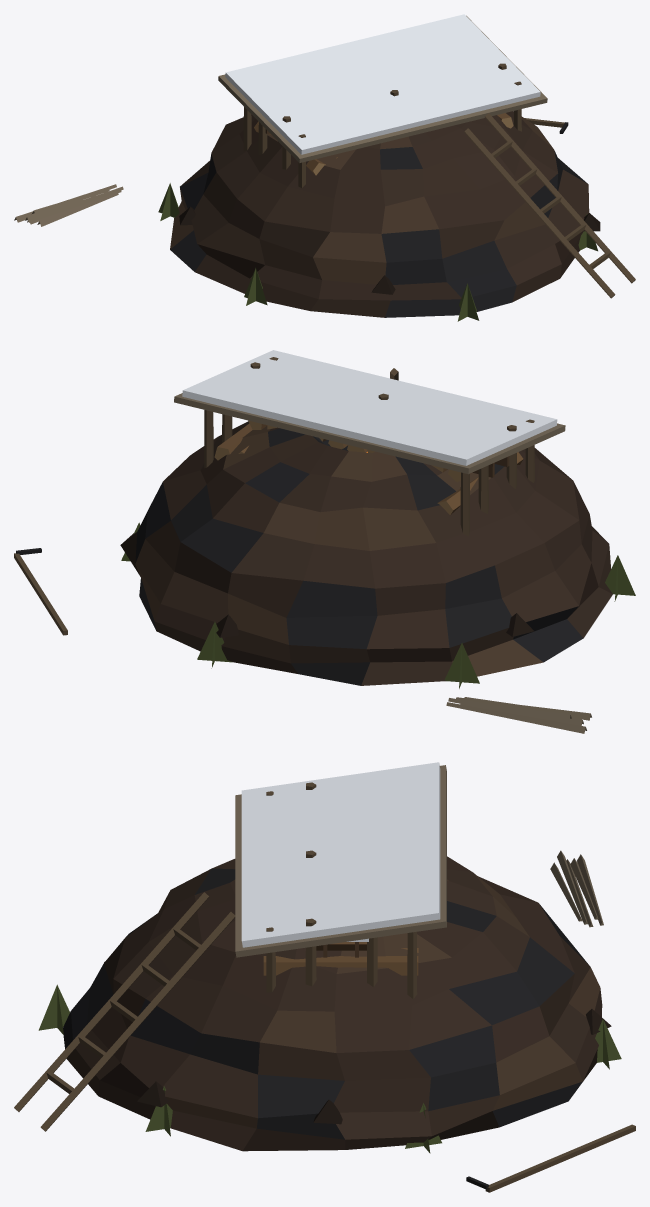
File: fuellung_holzplatz.glb
The picture shows the model from 3 angles, top to bottom: view 1: azimuth 30°, elevation 25°; view 2: azimuth 150°, elevation 25°; view 3: azimuth 270°, elevation 25°; orthographic projection. The views are drawn at different scales.
Parts seen in each view (by area): view 1: Kohlenmeiler, HolzstapelGross_Winter, HolzstapelGross, Scheitwand; view 2: Kohlenmeiler, HolzstapelGross_Winter, HolzstapelGross, Scheitwand; view 3: Kohlenmeiler, HolzstapelGross_Winter, HolzstapelGross, Scheitwand.
Boxes of the visible parts, x1,y1,x2,y2 form: Kohlenmeiler: [14, 111, 635, 321]; HolzstapelGross_Winter: [225, 14, 540, 154]; HolzstapelGross: [218, 15, 547, 187]; Scheitwand: [258, 63, 506, 169]; Kohlenmeiler: [14, 368, 635, 733]; HolzstapelGross_Winter: [182, 350, 557, 465]; HolzstapelGross: [174, 357, 565, 536]; Scheitwand: [222, 362, 516, 513]; Kohlenmeiler: [14, 850, 635, 1192]; HolzstapelGross_Winter: [241, 762, 440, 947]; HolzstapelGross: [235, 765, 446, 999]; Scheitwand: [305, 782, 377, 987].
Size of the model in its own units: 5.8 by 1.81 by 4.67.
